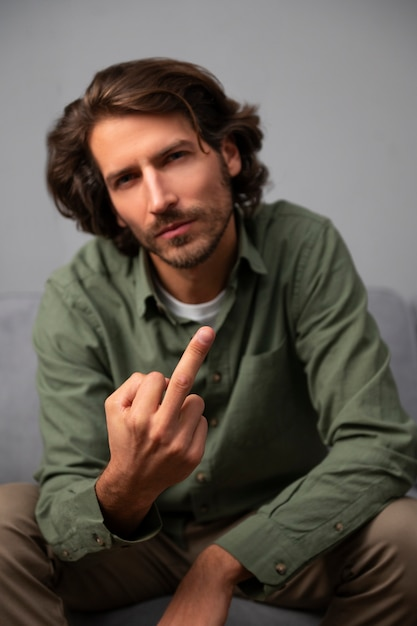insulting_gesture: (97, 323, 220, 503)
